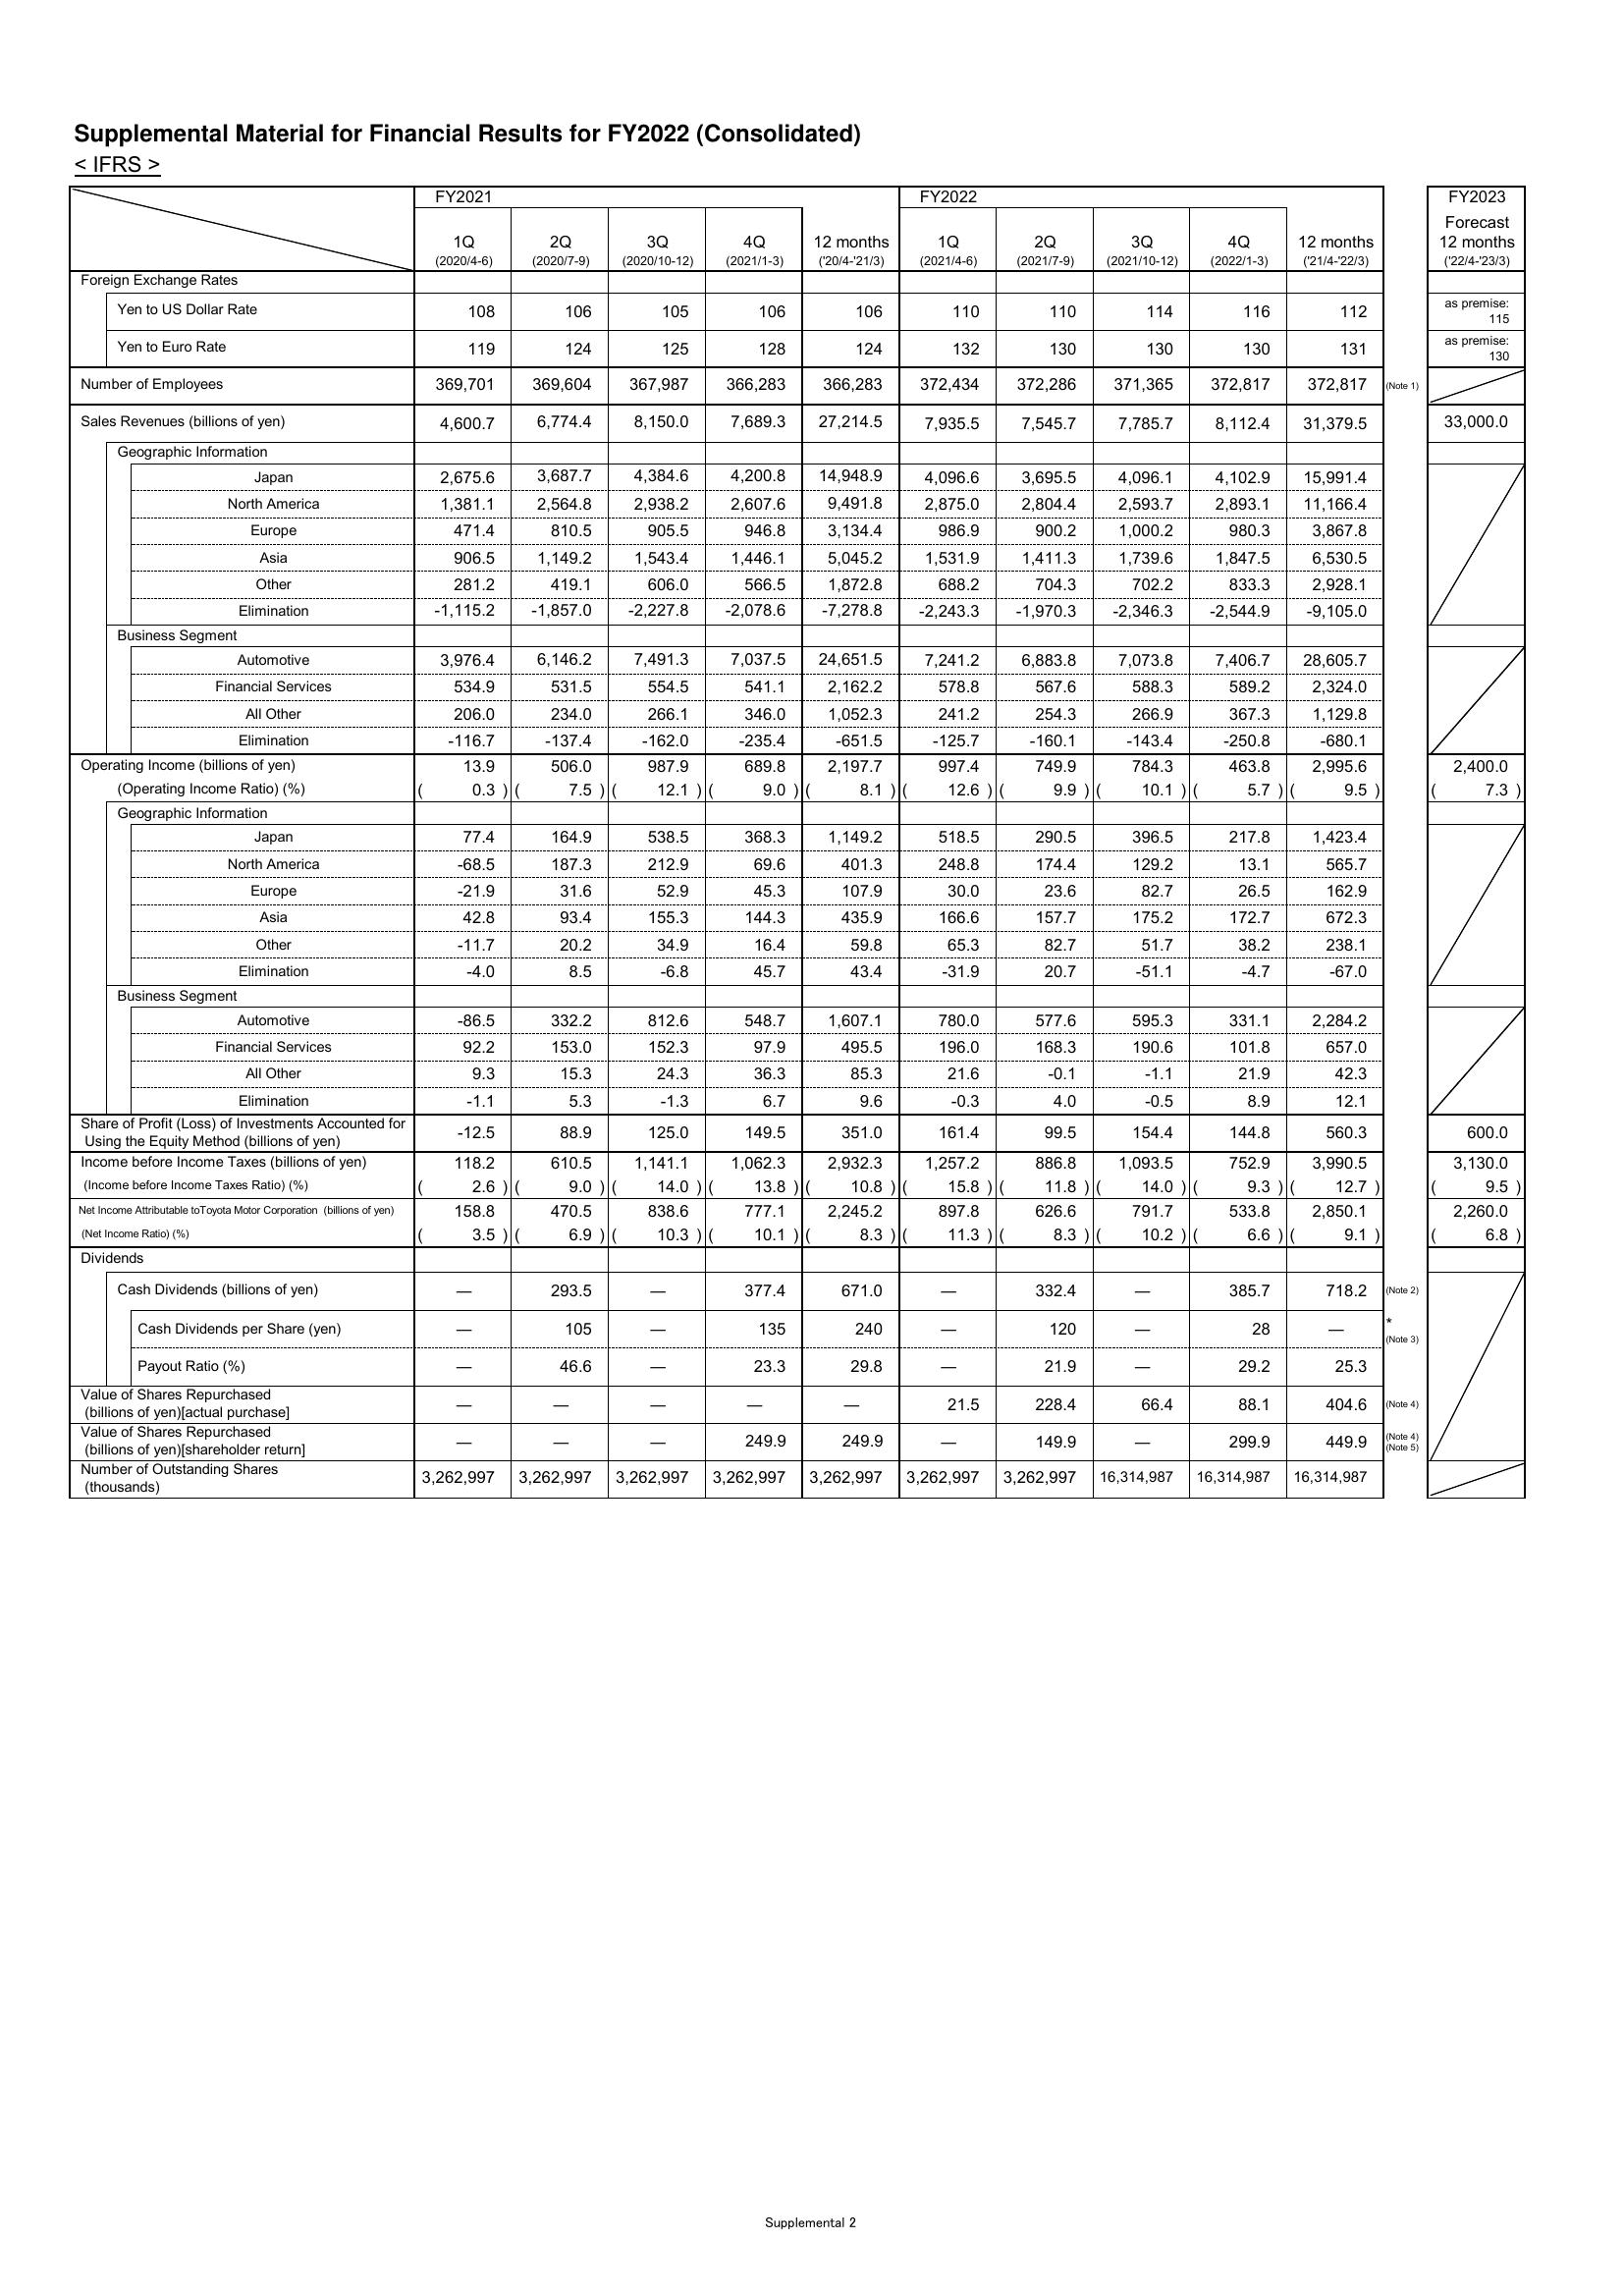Footer: (0, 2183, 1624, 2296)
Header: (0, 0, 1624, 107)
Table: (42, 179, 1524, 1598)
